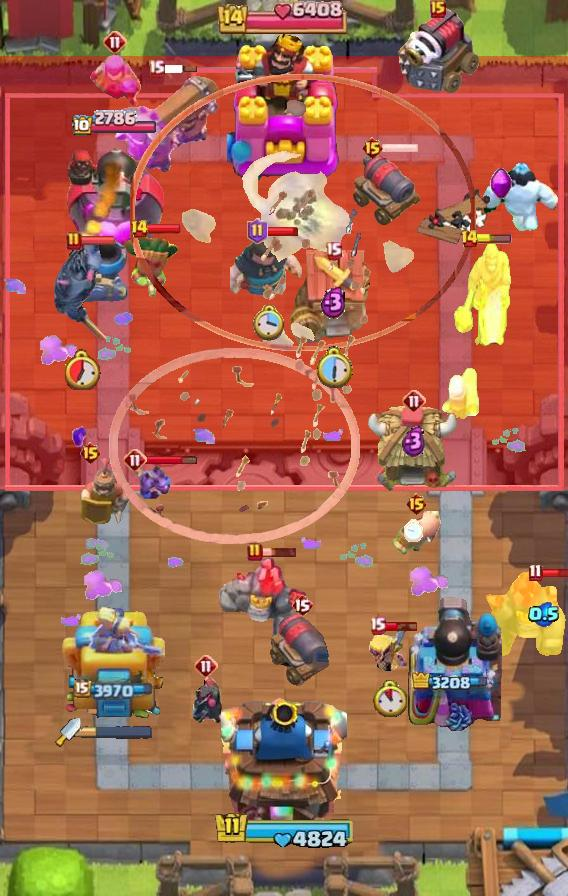arrows: (368, 632, 413, 673)
bar: (60, 607, 168, 731)
battle-ram: (187, 674, 225, 728)
cannoneer-tower: (217, 556, 311, 656), (482, 571, 568, 659)
clock: (210, 810, 358, 852), (217, 0, 351, 34)
earthquake: (78, 458, 132, 526)
electro-spirit: (320, 285, 347, 319), (528, 602, 560, 627), (402, 425, 426, 457)
elixir: (314, 346, 353, 389), (65, 349, 101, 390), (373, 679, 407, 717), (253, 305, 285, 343), (404, 518, 424, 542)
emote: (146, 455, 199, 466), (381, 142, 418, 154), (262, 546, 299, 558), (146, 223, 182, 235), (383, 620, 419, 632), (80, 234, 116, 245), (265, 227, 299, 238), (162, 64, 198, 74), (476, 234, 512, 244), (540, 567, 567, 579)
executioner: (390, 511, 442, 555)
freeze: (452, 237, 514, 349)
furnace: (113, 73, 221, 173)
goblin-barrel: (120, 232, 180, 300)
golem: (395, 7, 481, 95)
golemite: (52, 239, 114, 343)
king-tower: (227, 29, 341, 181), (221, 690, 347, 826)
king-tower-bar: (81, 725, 153, 739)
musketeer: (68, 238, 128, 302)
prince: (367, 404, 461, 494)
rage: (478, 163, 564, 231)
rascal-girl: (87, 50, 143, 110)
royal-delivery: (131, 458, 171, 506)
royal-ghost: (130, 73, 476, 350)
royal-giant-evolution: (351, 153, 421, 227), (268, 613, 336, 687)
royal-hog: (230, 235, 308, 303)
selected: (70, 110, 157, 138), (412, 672, 494, 694), (73, 679, 154, 700)
skeleton-barrel: (108, 186, 372, 546)
skeleton-king-skill: (489, 167, 512, 201)
sparky: (290, 249, 376, 347)
text: (103, 30, 127, 54), (402, 389, 426, 413), (123, 448, 147, 472), (194, 654, 218, 678), (361, 136, 384, 160), (79, 441, 102, 465), (404, 492, 427, 516), (247, 218, 268, 244), (291, 593, 313, 617), (130, 219, 150, 239), (461, 229, 480, 249), (369, 617, 387, 636), (147, 59, 165, 77), (325, 241, 343, 259), (66, 231, 82, 251), (247, 542, 263, 562), (430, 0, 446, 18), (529, 563, 543, 581)
tombstone: (439, 365, 481, 423)
tower-bar: (404, 593, 502, 731), (63, 138, 164, 256)
